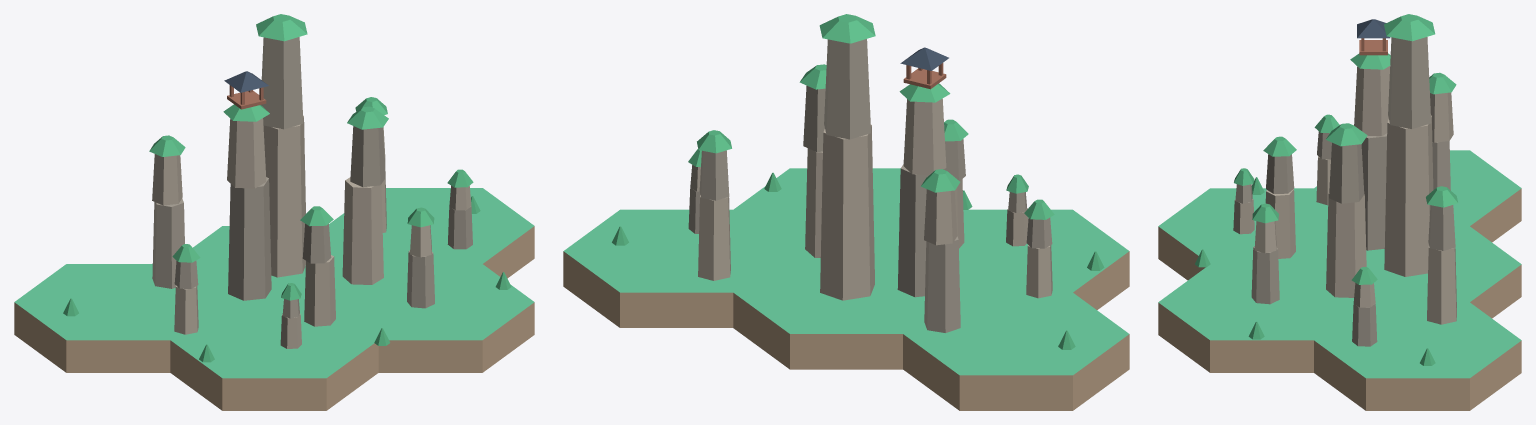
The model's file is mountain-huge.glb.
The picture shows the model from 3 angles, left to right: view 1: azimuth 30°, elevation 25°; view 2: azimuth 150°, elevation 25°; view 3: azimuth 270°, elevation 25°; orthographic projection. The views are drawn at different scales.
Parts seen in each view (by area): view 1: base3, base4, base2, base1, p_main_lo, p2_lo, p3_lo, base0, p_main_hi, p2_hi, p4_lo, p6_lo (+15 smaller); view 2: base2, base1, base0, base3, p_main_lo, base4, p_main_hi, p2_lo, p4_lo, p2_hi, p5_lo, p3_lo (+12 smaller); view 3: base1, base4, base3, p_main_lo, base0, base2, p_main_hi, p3_lo, p2_lo, p2_hi, p5_lo, p3_hi (+21 smaller).
Part boxes in pixels (<box>): base3: <box>170,302,378,410</box>; base4: <box>335,264,534,372</box>; base2: <box>14,264,221,372</box>; base1: <box>329,188,534,278</box>; p_main_lo: <box>263,115,305,277</box>; p2_lo: <box>228,177,271,300</box>; p3_lo: <box>342,177,383,284</box>; base0: <box>193,226,350,301</box>; p_main_hi: <box>261,37,303,129</box>; p2_hi: <box>227,118,266,188</box>; p4_lo: <box>152,198,184,288</box>; p6_lo: <box>304,255,335,326</box>; base2: <box>903,292,1129,410</box>; base1: <box>563,209,789,327</box>; base0: <box>733,251,924,369</box>; base3: <box>959,209,1129,309</box>; p_main_lo: <box>820,124,874,300</box>; base4: <box>733,168,900,250</box>; p_main_hi: <box>824,39,870,139</box>; p2_lo: <box>897,164,929,297</box>; p4_lo: <box>924,236,960,332</box>; p2_hi: <box>903,98,946,174</box>; p5_lo: <box>698,195,730,280</box>; p3_lo: <box>805,148,822,257</box>; base1: <box>1314,302,1521,410</box>; base4: <box>1158,264,1353,372</box>; base3: <box>1158,188,1328,280</box>; p_main_lo: <box>1384,115,1433,276</box>; base0: <box>1314,226,1521,318</box>; base2: <box>1314,150,1521,242</box>; p_main_hi: <box>1388,37,1431,128</box>; p3_lo: <box>1326,193,1366,297</box>; p2_lo: <box>1361,133,1387,250</box>; p2_hi: <box>1354,66,1389,136</box>; p5_lo: <box>1427,246,1456,324</box>; p3_hi: <box>1329,142,1364,203</box>.
Bounding box in the file's own units: 3 × 1.72 × 2.02.
